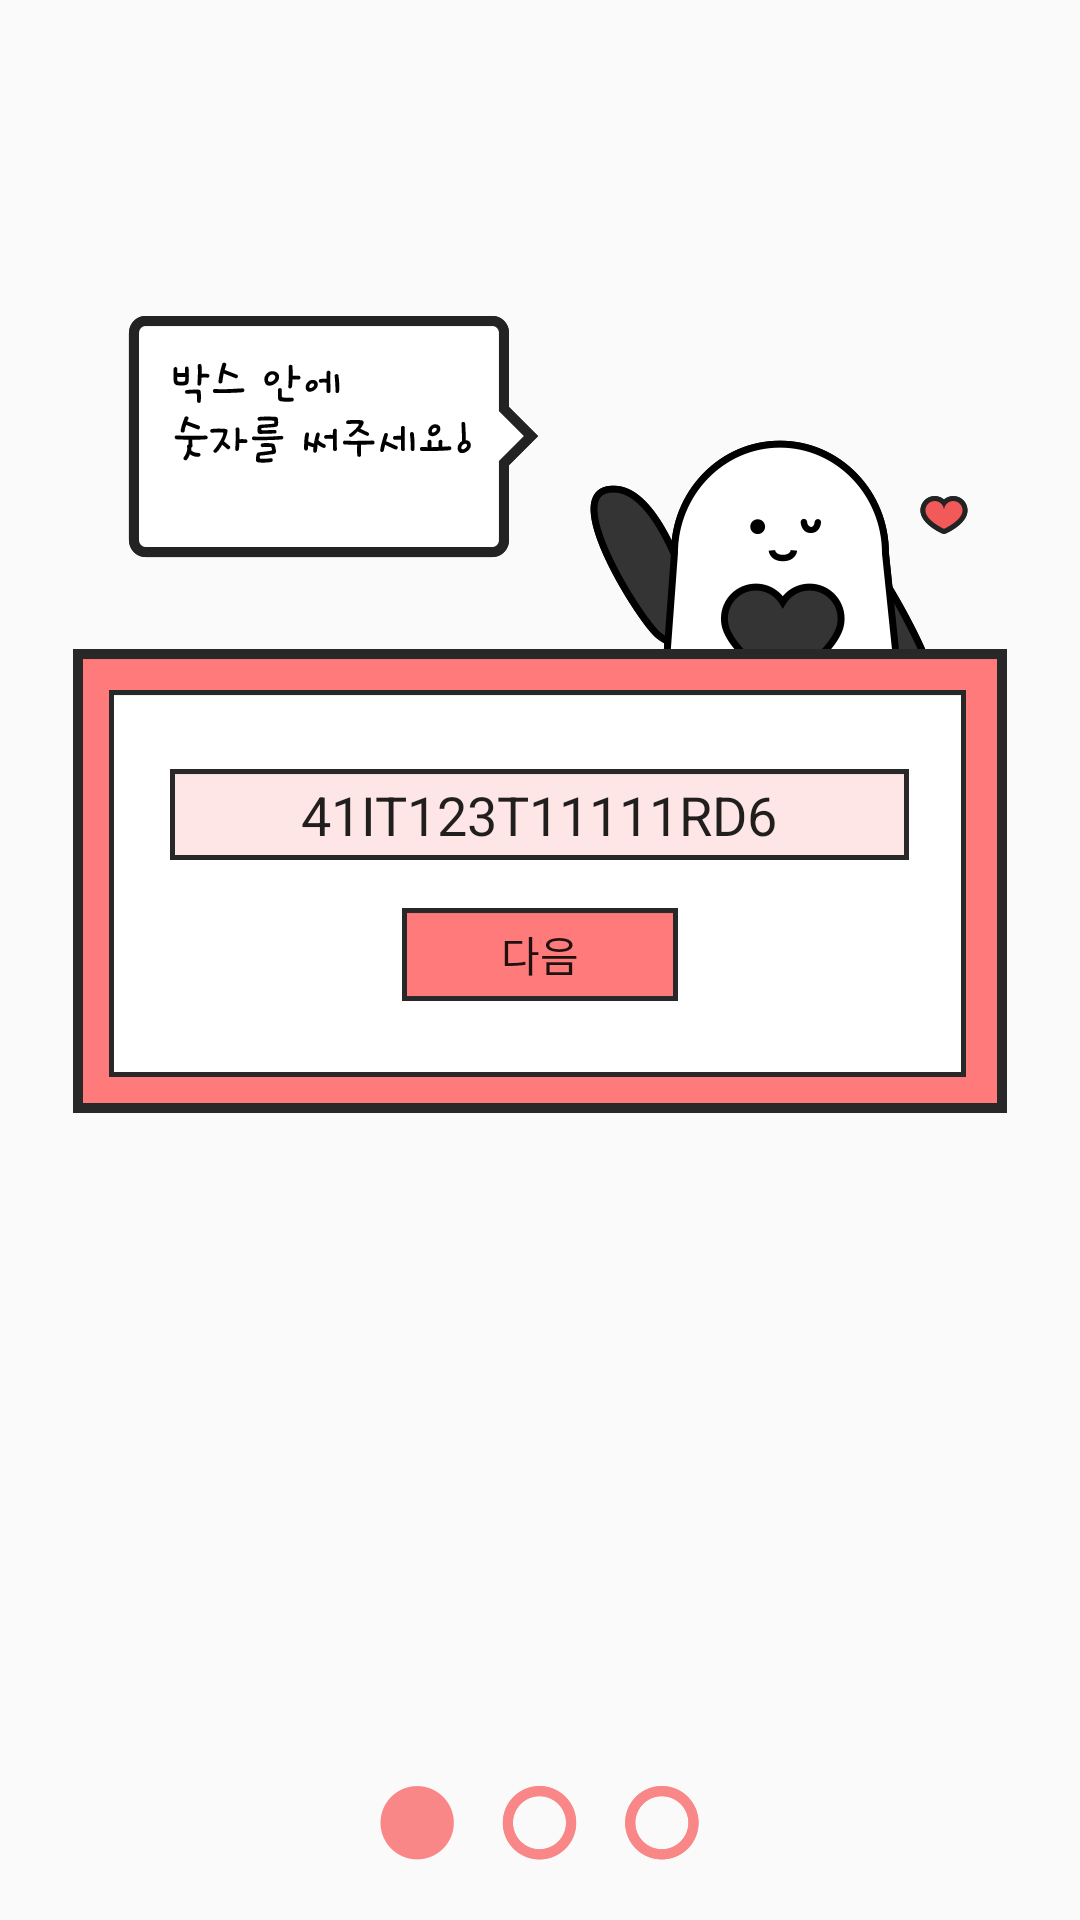

Named icons in this screenshot (1080px x 1920px) and their bounding boxes, (x1, y1, x2, y2):
index: (380, 1786, 699, 1860)
